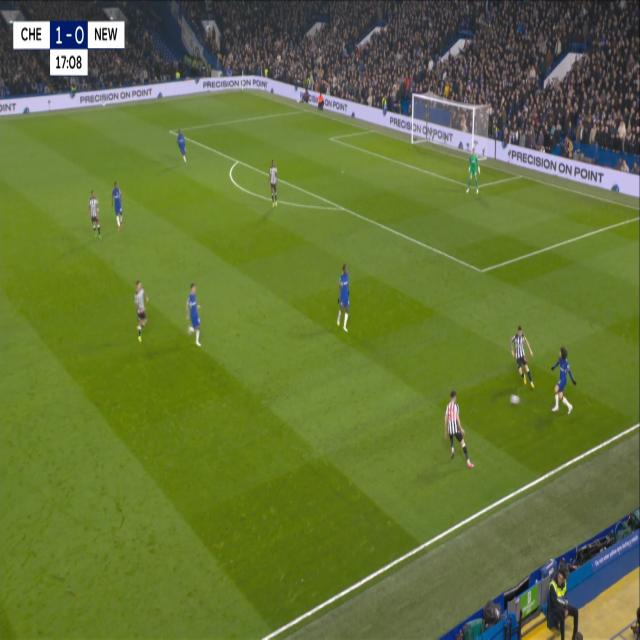Ball: (509, 391, 520, 406)
Chelsea: (548, 341, 578, 418), (334, 258, 354, 336), (183, 277, 204, 350), (107, 177, 126, 235), (174, 126, 189, 169)
Chelsea keeper: (463, 141, 482, 198)
New castle: (441, 385, 476, 474), (508, 321, 537, 395), (132, 274, 152, 348), (85, 183, 102, 241), (266, 157, 281, 211)
